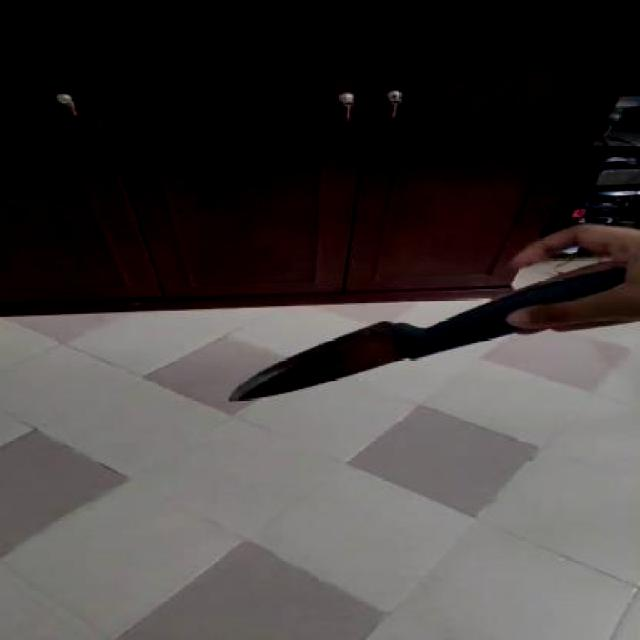knife: (226, 288, 497, 408)
